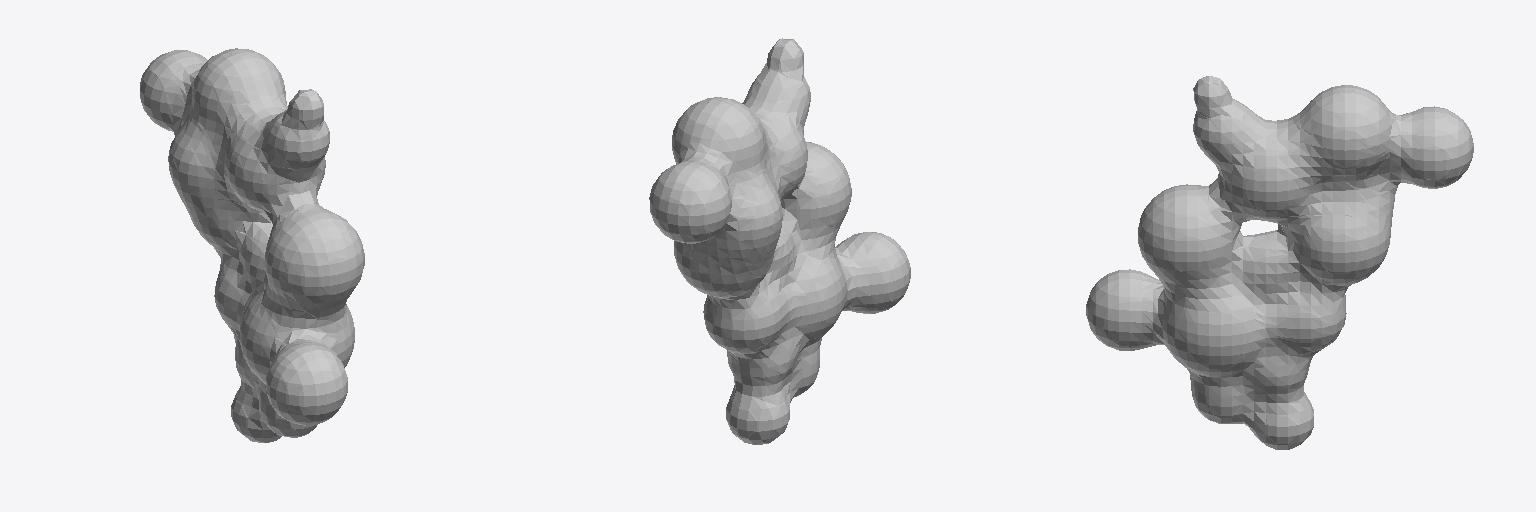
3 views of the same model, side by side, from view 1: azimuth 30°, elevation 25°; view 2: azimuth 150°, elevation 25°; view 3: azimuth 270°, elevation 25° (orthographic).
Parts seen in each view (by area): view 1: Mball.019; view 2: Mball.019; view 3: Mball.019.
Part boxes in pixels (left/top/right/bottom): Mball.019: left=140, top=48, right=364, bottom=442; Mball.019: left=649, top=38, right=910, bottom=444; Mball.019: left=1086, top=76, right=1473, bottom=449.
Bounding box in the file's own units: 3.28 × 9.62 × 9.05.